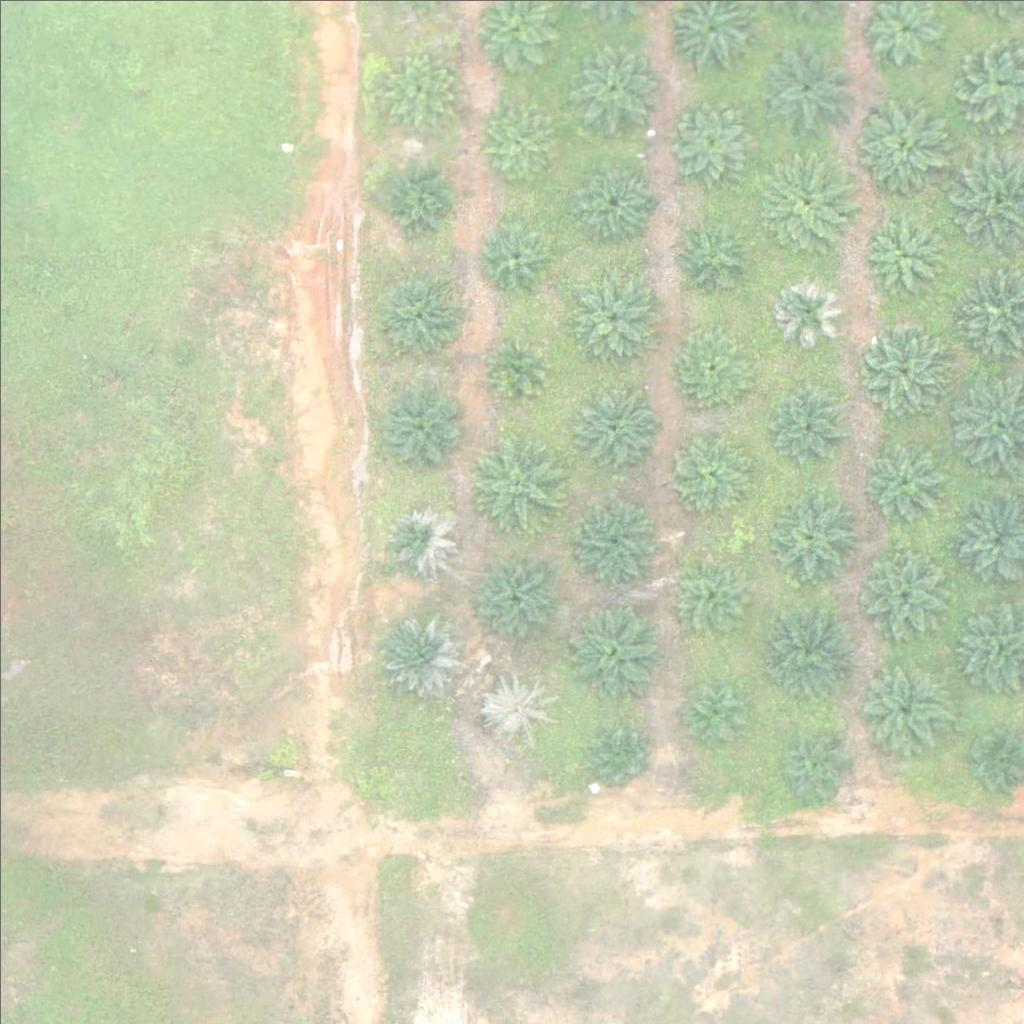Kelapa_Sawit: (853, 656, 953, 757), (751, 153, 851, 254), (663, 88, 763, 189), (757, 38, 857, 139), (561, 599, 661, 699), (462, 545, 562, 645), (462, 431, 562, 531), (849, 95, 949, 195), (857, 544, 945, 633), (667, 320, 755, 409), (565, 153, 653, 242), (666, 214, 754, 302), (763, 602, 851, 690), (766, 489, 854, 577), (664, 423, 752, 511), (378, 609, 466, 697), (376, 379, 464, 467), (375, 268, 463, 356), (570, 40, 658, 128), (861, 431, 948, 519), (858, 321, 945, 409), (569, 494, 656, 582), (570, 378, 657, 466), (569, 268, 656, 356), (864, 216, 939, 292), (480, 670, 555, 746), (379, 500, 454, 576), (674, 552, 749, 627), (474, 216, 549, 291), (384, 53, 459, 128), (377, 161, 452, 236), (770, 384, 845, 459), (768, 270, 843, 345), (482, 105, 557, 180), (781, 731, 844, 794), (684, 684, 747, 747), (484, 333, 547, 396), (589, 724, 651, 786)
